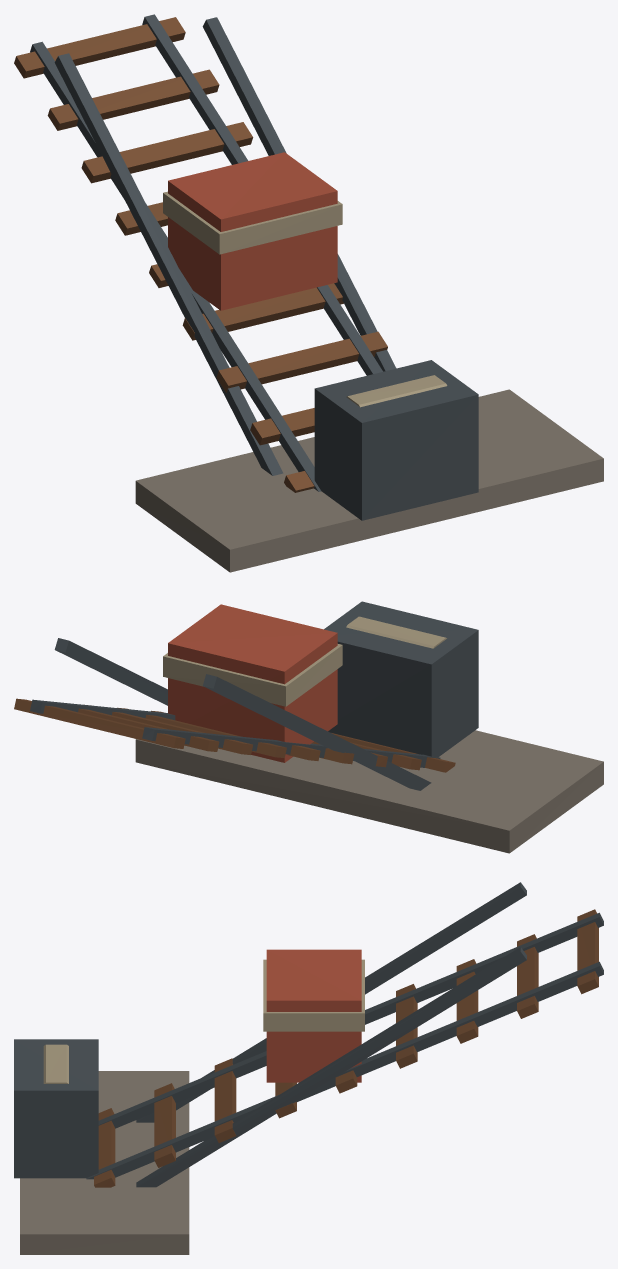
Rendered from mountain-funicular.source.glb.
3 views of the same model, one above another, from view 1: azimuth 30°, elevation 25°; view 2: azimuth 150°, elevation 25°; view 3: azimuth 270°, elevation 25° (orthographic). The views are drawn at different scales.
Parts seen in each view (by area): view 1: mountain-funicular-lower-stone-loading-platform-mesh, mountain-funicular-cable-drum-housing-mesh, mountain-funicular-small-incline-cabin-mesh, mountain-funicular-incline-support-left-mesh, mountain-funicular-inclined-rail-left-mesh, mountain-funicular-incline-support-right-mesh, mountain-funicular-cabin-window-band-mesh, mountain-funicular-inclined-rail-right-mesh, mountain-funicular-support-sleeper-3-mesh, mountain-funicular-support-sleeper-7-mesh, mountain-funicular-support-sleeper-9-mesh, mountain-funicular-support-sleeper-8-mesh (+3 smaller); view 2: mountain-funicular-lower-stone-loading-platform-mesh, mountain-funicular-cable-drum-housing-mesh, mountain-funicular-small-incline-cabin-mesh, mountain-funicular-cabin-window-band-mesh, mountain-funicular-incline-support-left-mesh, mountain-funicular-support-sleeper-9-mesh, mountain-funicular-incline-support-right-mesh, mountain-funicular-inclined-rail-left-mesh, mountain-funicular-visible-cable-drum-mesh, mountain-funicular-inclined-rail-right-mesh, mountain-funicular-support-sleeper-6-mesh, mountain-funicular-support-sleeper-7-mesh (+4 smaller); view 3: mountain-funicular-lower-stone-loading-platform-mesh, mountain-funicular-cable-drum-housing-mesh, mountain-funicular-small-incline-cabin-mesh, mountain-funicular-incline-support-right-mesh, mountain-funicular-inclined-rail-right-mesh, mountain-funicular-inclined-rail-left-mesh, mountain-funicular-incline-support-left-mesh, mountain-funicular-cabin-window-band-mesh, mountain-funicular-support-sleeper-2-mesh, mountain-funicular-support-sleeper-3-mesh, mountain-funicular-support-sleeper-9-mesh, mountain-funicular-support-sleeper-8-mesh (+4 smaller).
Boxes of the visible parts, left/top/right/bottom form: mountain-funicular-lower-stone-loading-platform-mesh: left=135, top=389, right=603, bottom=572; mountain-funicular-cable-drum-housing-mesh: left=314, top=360, right=478, bottom=520; mountain-funicular-small-incline-cabin-mesh: left=168, top=152, right=337, bottom=310; mountain-funicular-incline-support-left-mesh: left=54, top=53, right=283, bottom=475; mountain-funicular-inclined-rail-left-mesh: left=30, top=41, right=320, bottom=491; mountain-funicular-incline-support-right-mesh: left=202, top=17, right=396, bottom=371; mountain-funicular-cabin-window-band-mesh: left=163, top=191, right=342, bottom=254; mountain-funicular-inclined-rail-right-mesh: left=142, top=14, right=382, bottom=375; mountain-funicular-support-sleeper-3-mesh: left=216, top=331, right=387, bottom=392; mountain-funicular-support-sleeper-7-mesh: left=81, top=122, right=253, bottom=183; mountain-funicular-support-sleeper-9-mesh: left=14, top=17, right=185, bottom=78; mountain-funicular-support-sleeper-8-mesh: left=47, top=69, right=219, bottom=130; mountain-funicular-lower-stone-loading-platform-mesh: left=135, top=730, right=603, bottom=853; mountain-funicular-cable-drum-housing-mesh: left=324, top=601, right=478, bottom=757; mountain-funicular-small-incline-cabin-mesh: left=168, top=604, right=337, bottom=762; mountain-funicular-cabin-window-band-mesh: left=163, top=644, right=342, bottom=706; mountain-funicular-incline-support-left-mesh: left=203, top=674, right=431, bottom=790; mountain-funicular-support-sleeper-9-mesh: left=14, top=698, right=185, bottom=748; mountain-funicular-incline-support-right-mesh: left=54, top=638, right=167, bottom=705; mountain-funicular-inclined-rail-left-mesh: left=142, top=727, right=440, bottom=767; mountain-funicular-visible-cable-drum-mesh: left=346, top=616, right=446, bottom=648; mountain-funicular-inclined-rail-right-mesh: left=30, top=699, right=175, bottom=720; mountain-funicular-support-sleeper-6-mesh: left=117, top=707, right=286, bottom=757; mountain-funicular-support-sleeper-7-mesh: left=84, top=704, right=252, bottom=754; mountain-funicular-lower-stone-loading-platform-mesh: left=20, top=1071, right=189, bottom=1254; mountain-funicular-cable-drum-housing-mesh: left=14, top=1039, right=98, bottom=1178; mountain-funicular-small-incline-cabin-mesh: left=266, top=949, right=361, bottom=1082; mountain-funicular-incline-support-right-mesh: left=136, top=947, right=526, bottom=1187; mountain-funicular-inclined-rail-right-mesh: left=86, top=961, right=603, bottom=1179; mountain-funicular-inclined-rail-left-mesh: left=98, top=912, right=603, bottom=1128; mountain-funicular-incline-support-left-mesh: left=136, top=882, right=526, bottom=1122; mountain-funicular-cabin-window-band-mesh: left=263, top=959, right=364, bottom=1031; mountain-funicular-support-sleeper-2-mesh: left=154, top=1083, right=175, bottom=1167; mountain-funicular-support-sleeper-3-mesh: left=214, top=1058, right=236, bottom=1142; mountain-funicular-support-sleeper-9-mesh: left=577, top=909, right=598, bottom=994; mountain-funicular-support-sleeper-8-mesh: left=517, top=934, right=538, bottom=1018.
Bounding box in the file's own units: 4.8 × 3.51 × 7.32.
